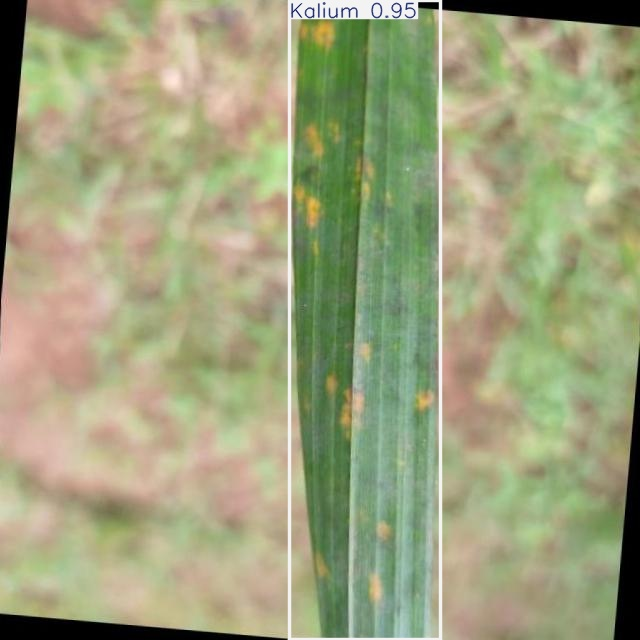Kalium: (290, 1, 441, 640)
